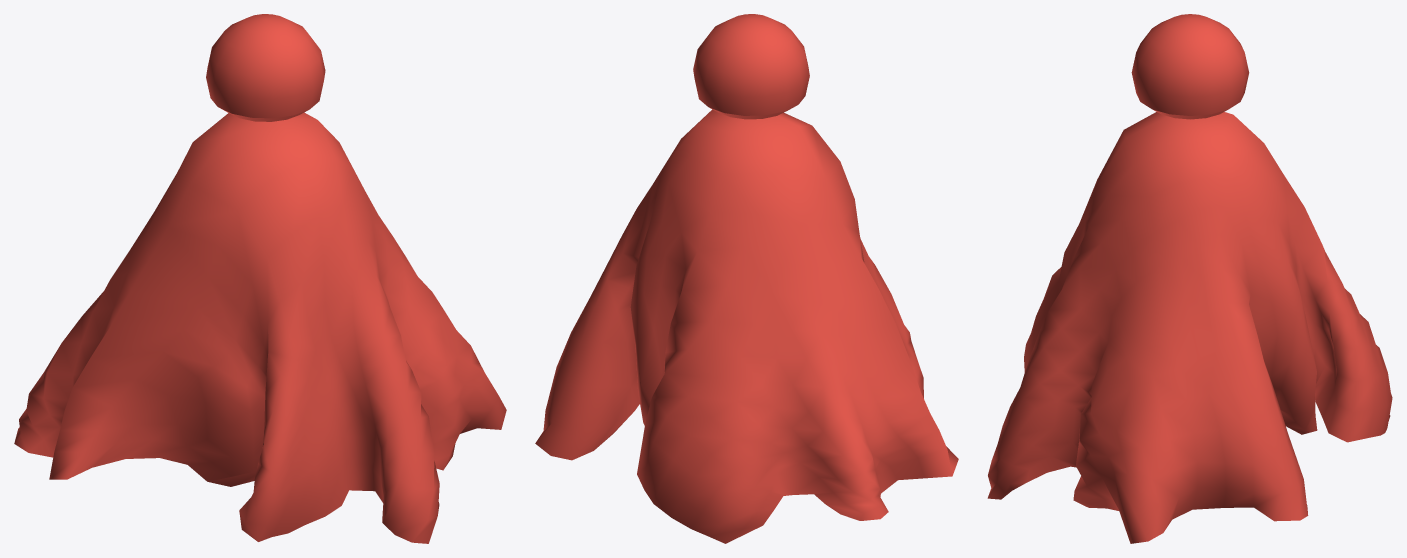
File: perso.fbx
The picture shows the model from 3 angles, left to right: view 1: azimuth 30°, elevation 25°; view 2: azimuth 150°, elevation 25°; view 3: azimuth 270°, elevation 25°; orthographic projection. The views are drawn at different scales.
Parts seen in each view (by area): view 1: Sphere.001; view 2: Sphere.001; view 3: Sphere.001.
Part boxes in pixels (x1,y1,x2,y2): Sphere.001: (14,14,506,543); Sphere.001: (535,14,958,543); Sphere.001: (987,14,1392,543).
Size of the model in its own units: 825 by 847 by 689.
